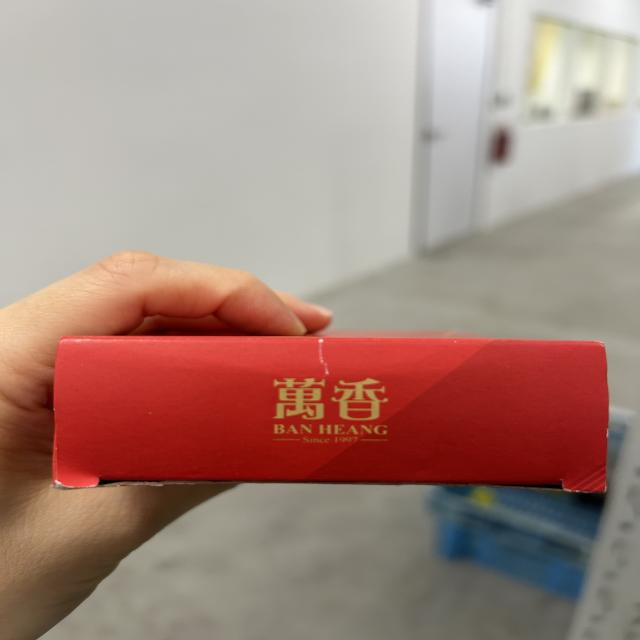object_name: (55, 334, 605, 491)
